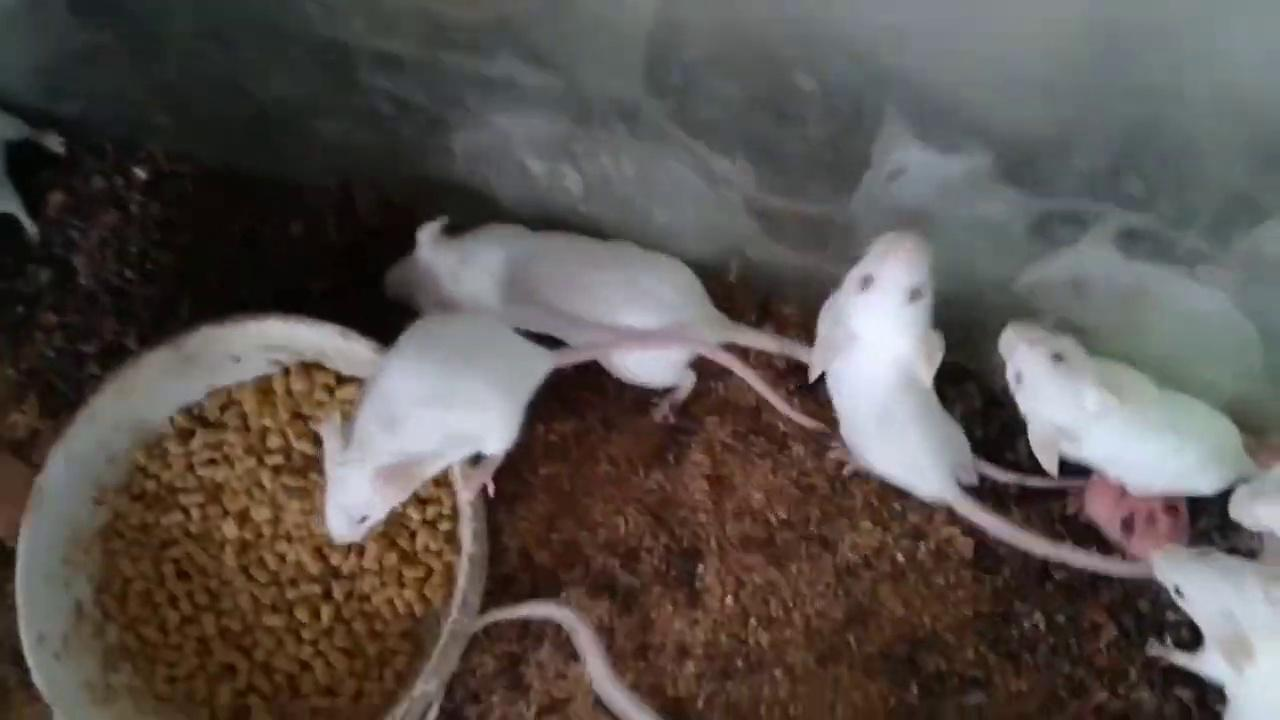rat: (814, 229, 1152, 576), (313, 310, 813, 543), (388, 216, 835, 431), (999, 319, 1260, 496), (1152, 546, 1280, 720)
